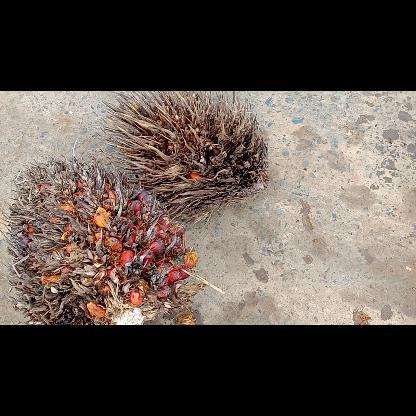Janjang kosong: (96, 91, 270, 223)
Terlalu masak: (0, 152, 206, 324)
